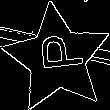P_W: (30, 37, 84, 80)
